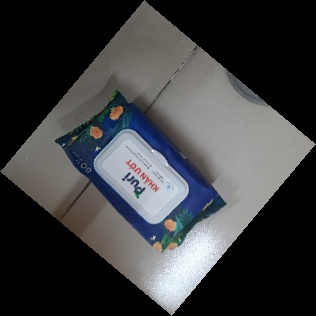Puri Xanh: (52, 90, 228, 254)
